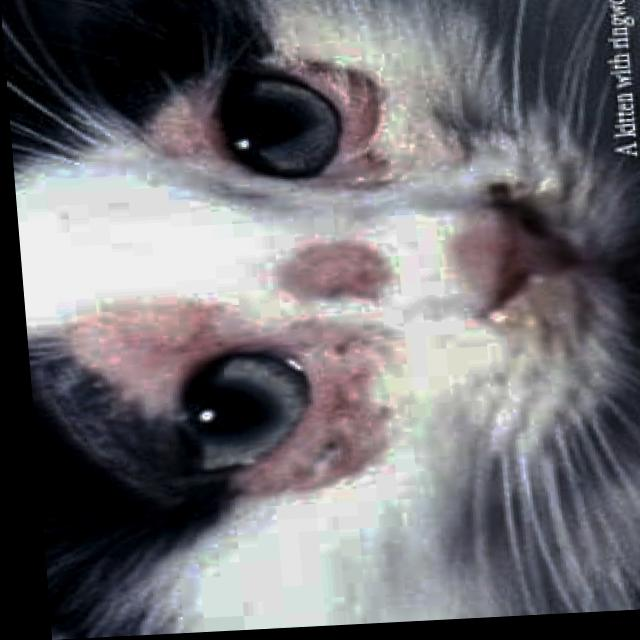ringworm: (233, 343, 384, 495), (286, 238, 389, 300)
